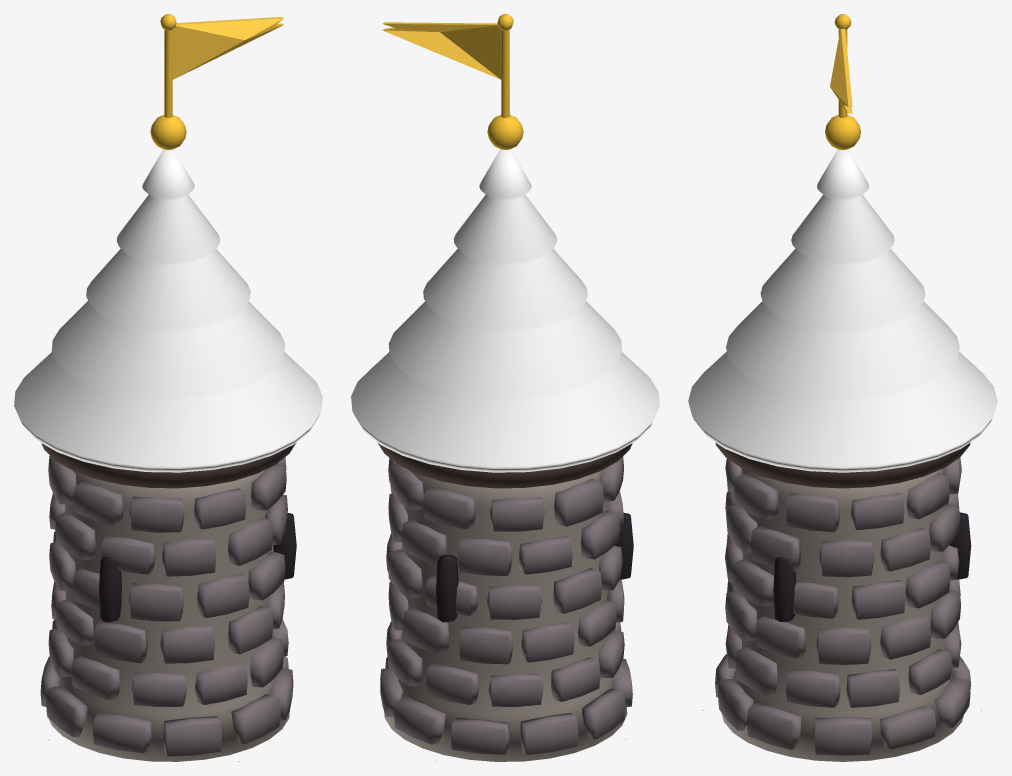
File: ArrowAmbushTurret.obj
3 renders of one model, left to right at view 1: azimuth 30°, elevation 25°; view 2: azimuth 150°, elevation 25°; view 3: azimuth 270°, elevation 25°, orthographic.
Visible parts, largest first — view 1: Roof, Stone, Mortar, Flag, Trim, Window, Gold; view 2: Roof, Stone, Mortar, Flag, Trim, Window, Gold; view 3: Roof, Stone, Mortar, Trim, Window, Gold, Flag.
Part boxes in pixels (bbox=[...]): Roof: bbox=[14, 149, 322, 472]; Stone: bbox=[40, 455, 293, 756]; Mortar: bbox=[46, 469, 289, 761]; Flag: bbox=[172, 17, 283, 79]; Trim: bbox=[41, 442, 296, 488]; Window: bbox=[99, 513, 296, 621]; Gold: bbox=[150, 14, 186, 149]; Roof: bbox=[351, 149, 659, 472]; Stone: bbox=[380, 456, 632, 754]; Mortar: bbox=[384, 469, 627, 761]; Flag: bbox=[382, 22, 501, 79]; Trim: bbox=[378, 443, 632, 488]; Window: bbox=[436, 513, 633, 622]; Gold: bbox=[487, 14, 523, 149]; Roof: bbox=[688, 149, 997, 472]; Stone: bbox=[715, 457, 970, 755]; Mortar: bbox=[702, 468, 981, 761]; Trim: bbox=[715, 442, 970, 488]; Window: bbox=[773, 512, 971, 621]; Gold: bbox=[825, 14, 860, 149]; Flag: bbox=[830, 28, 852, 113].
Size of the model in its own units: 5.12 by 12.69 by 5.12.
